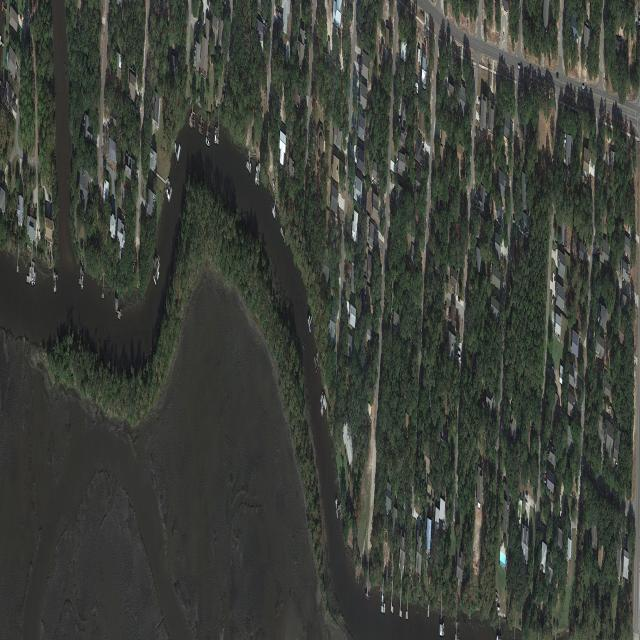ship: (255, 163, 258, 186), (31, 265, 34, 286), (166, 188, 170, 203), (205, 137, 210, 147), (214, 128, 217, 144), (307, 314, 310, 326), (320, 393, 323, 405), (153, 275, 156, 286), (81, 275, 83, 290), (429, 216, 431, 231), (34, 271, 36, 285), (157, 270, 159, 282), (384, 603, 386, 615), (249, 162, 251, 174), (443, 621, 444, 638)
small-vehicle: (272, 179, 275, 190), (48, 195, 51, 205), (14, 94, 17, 103), (559, 509, 561, 522), (279, 11, 282, 19), (266, 21, 269, 29), (424, 27, 426, 39), (426, 188, 428, 200), (478, 98, 481, 105), (497, 605, 500, 612), (525, 492, 528, 499), (525, 500, 528, 507), (423, 38, 425, 48), (458, 355, 461, 361), (20, 14, 22, 21), (458, 296, 460, 303), (203, 13, 204, 27), (276, 9, 278, 16), (544, 472, 546, 478), (458, 349, 460, 355), (423, 138, 425, 144), (422, 143, 424, 149), (582, 84, 584, 89), (585, 61, 586, 71), (585, 50, 586, 60), (586, 60, 587, 70), (603, 443, 604, 453), (518, 65, 521, 68), (625, 536, 626, 544), (556, 74, 558, 78), (587, 50, 588, 58)
